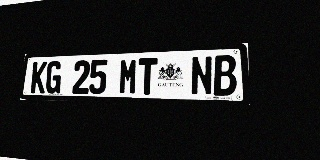2: (72, 60, 90, 94)
5: (89, 59, 108, 94)
B: (213, 55, 237, 96)
G: (45, 61, 62, 94)
K: (30, 61, 47, 93)
M: (118, 58, 138, 95)
N: (191, 56, 213, 96)
T: (137, 58, 158, 95)
